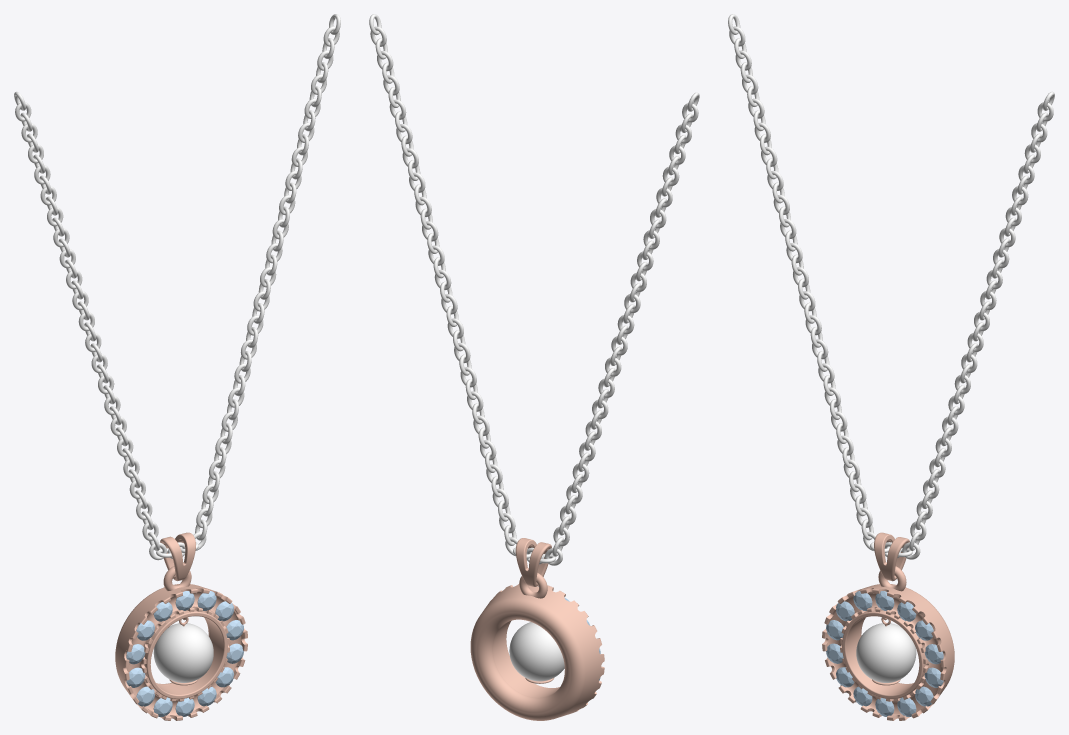
3 views of the same model, side by side, from view 1: azimuth 30°, elevation 25°; view 2: azimuth 150°, elevation 25°; view 3: azimuth 330°, elevation 25° (orthographic).
Parts seen in each view (by area): view 1: Pearl_Dangle_Halo.3dm; view 2: Pearl_Dangle_Halo.3dm; view 3: Pearl_Dangle_Halo.3dm.
Part boxes in pixels (x1,y1,x2,y2): Pearl_Dangle_Halo.3dm: (14, 14, 340, 720); Pearl_Dangle_Halo.3dm: (369, 14, 699, 720); Pearl_Dangle_Halo.3dm: (728, 14, 1054, 720).
Bounding box in the file's own units: 1.83 × 3.55 × 0.2997.
